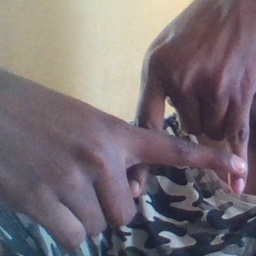H: (110, 61, 256, 211)
